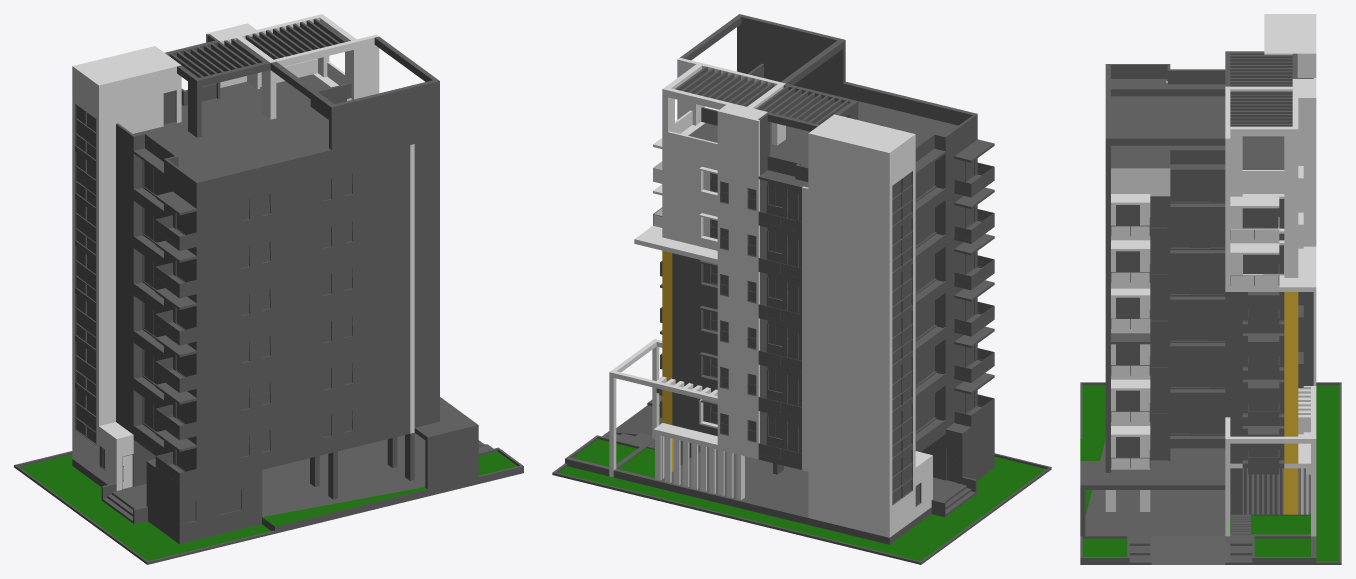
3 views of the same model, side by side, from view 1: azimuth 30°, elevation 25°; view 2: azimuth 150°, elevation 25°; view 3: azimuth 270°, elevation 25° (orthographic). The views are drawn at different scales.
Parts seen in each view (by area): view 1: AB1_OBJ_01; view 2: AB1_OBJ_01; view 3: AB1_OBJ_01.
Boxes of the visible parts, <box> form: AB1_OBJ_01: <box>14,14,523,564</box>; AB1_OBJ_01: <box>552,14,1051,564</box>; AB1_OBJ_01: <box>1080,14,1341,564</box>.
Bounding box in the file's own units: 25.38 × 25.76 × 15.57.
